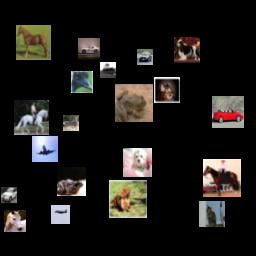airplane: (32, 136, 58, 162), (51, 205, 70, 224)
automobile: (212, 96, 244, 128), (78, 38, 100, 60), (1, 187, 17, 203), (137, 49, 153, 65)
bird: (71, 71, 93, 93)
cat: (154, 77, 180, 103), (199, 201, 225, 227)
deer: (63, 115, 79, 131)
dog: (109, 180, 147, 218), (123, 148, 152, 177), (174, 37, 200, 63)
frog: (115, 84, 153, 122), (57, 167, 86, 196)
ship: (100, 62, 116, 78)
